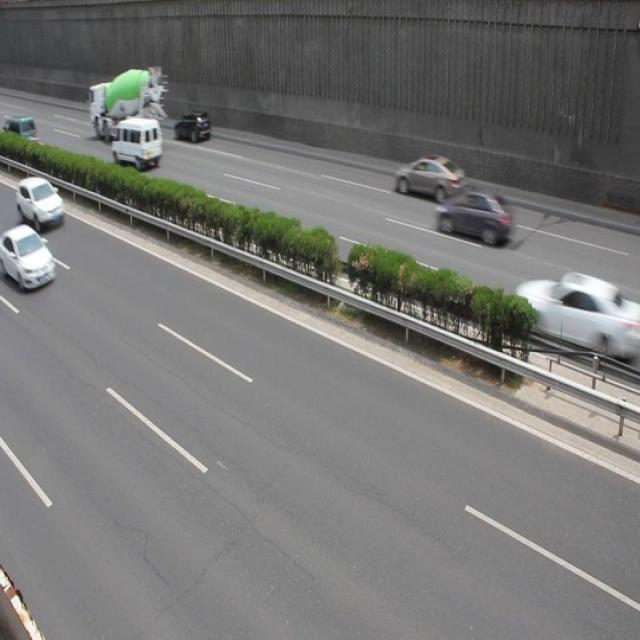bus: (90, 65, 165, 142)
car: (513, 267, 618, 360), (435, 186, 512, 248), (1, 222, 57, 294), (394, 150, 465, 202), (18, 176, 67, 234), (173, 110, 212, 142)
truck: (111, 117, 163, 170), (1, 113, 38, 154)
